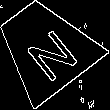N_NW: (12, 15, 77, 79)
